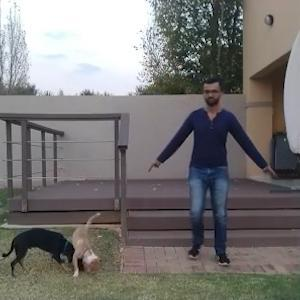land: (149, 82, 286, 270)
